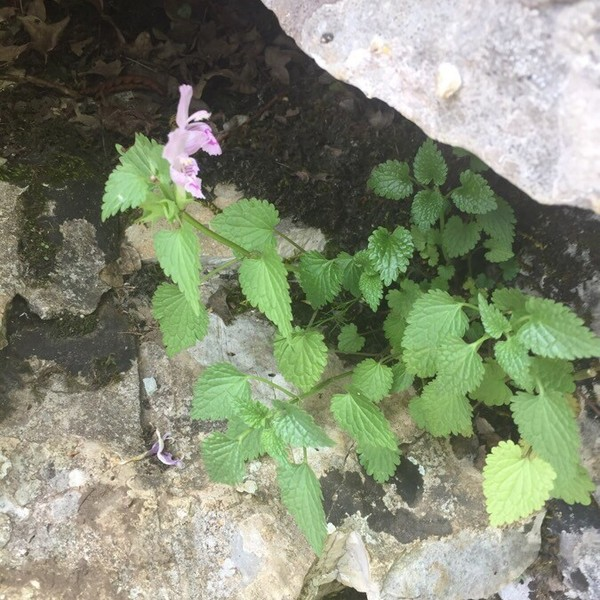obstacle: (109, 108, 587, 558)
